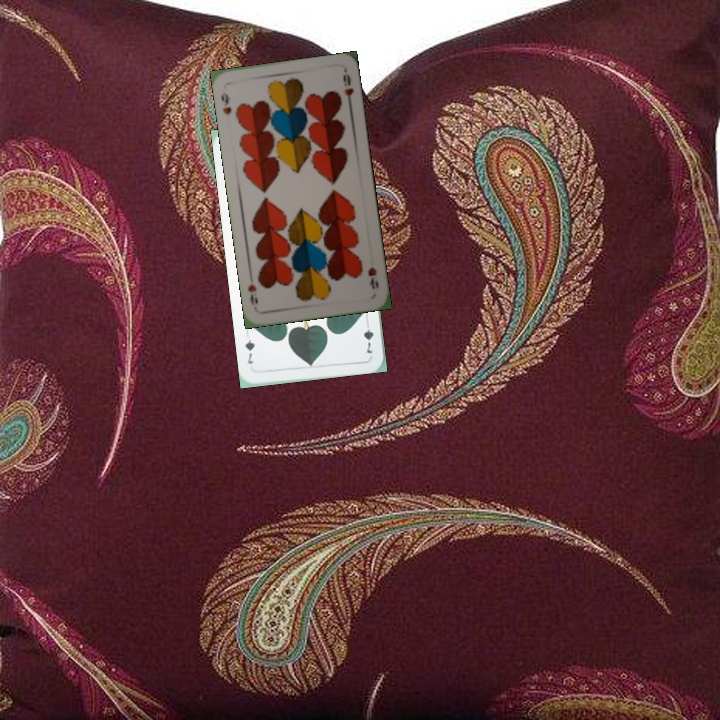G7: (359, 316, 376, 356)
H9: (217, 88, 234, 117), (364, 263, 381, 291)
